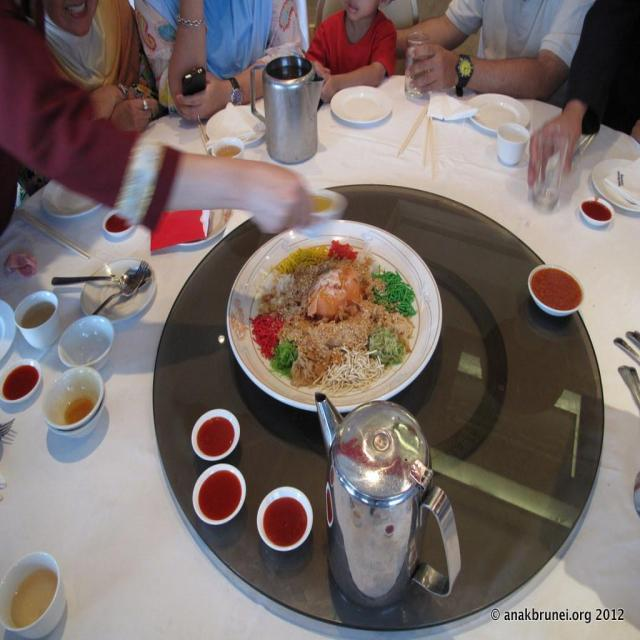ceramic plate: (230, 184, 452, 448)
